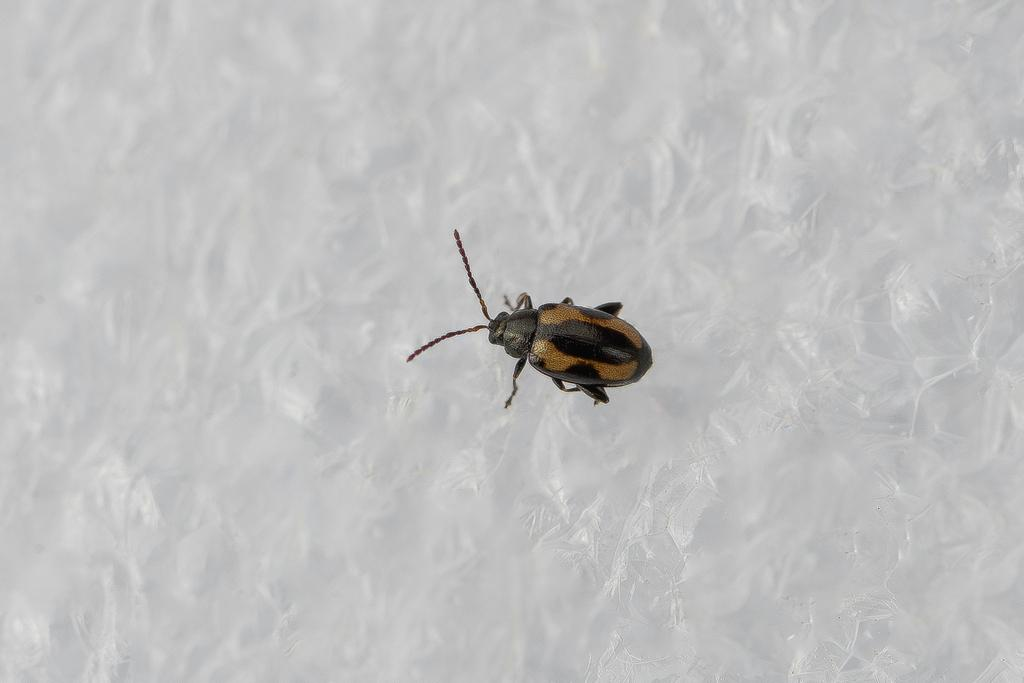flea_beetle: (362, 184, 702, 479)
